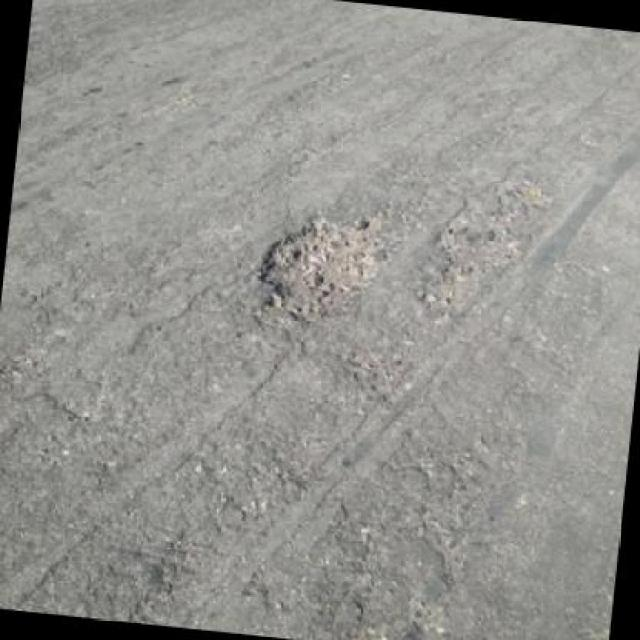pothole1: (412, 169, 558, 329), (249, 199, 397, 332)
